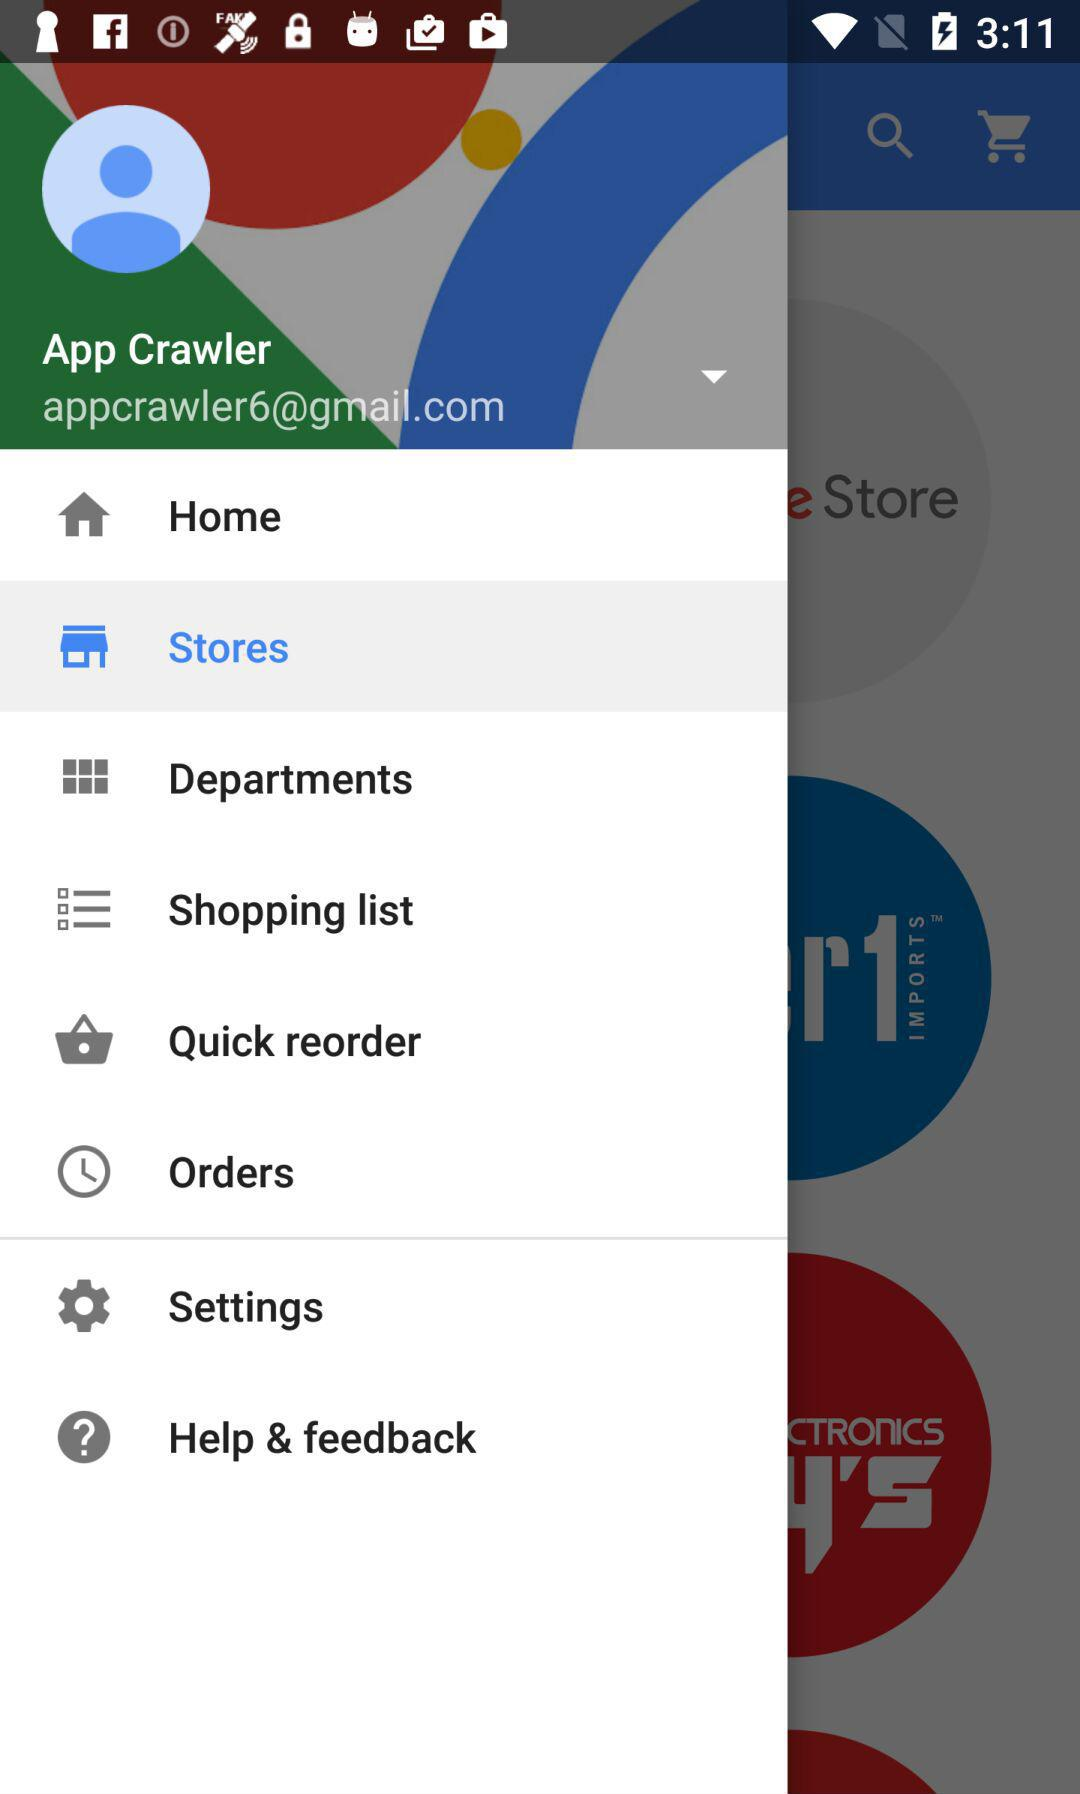Drawer: (1, 64, 788, 1794)
Icon: (41, 105, 211, 276), (55, 1014, 115, 1066), (56, 1144, 113, 1199), (56, 1410, 111, 1465), (58, 1278, 111, 1334), (58, 491, 111, 538), (56, 887, 113, 932), (61, 759, 110, 796), (700, 369, 729, 386)
Image: (60, 624, 111, 670)
Text: (44, 388, 505, 433), (170, 1419, 478, 1463), (169, 892, 415, 937), (41, 331, 274, 375), (169, 1023, 423, 1064), (170, 762, 414, 805), (169, 1289, 324, 1333), (169, 1155, 295, 1190), (169, 630, 290, 666), (170, 500, 282, 534)
UpperTaskBar: (1, 1, 1080, 64)
